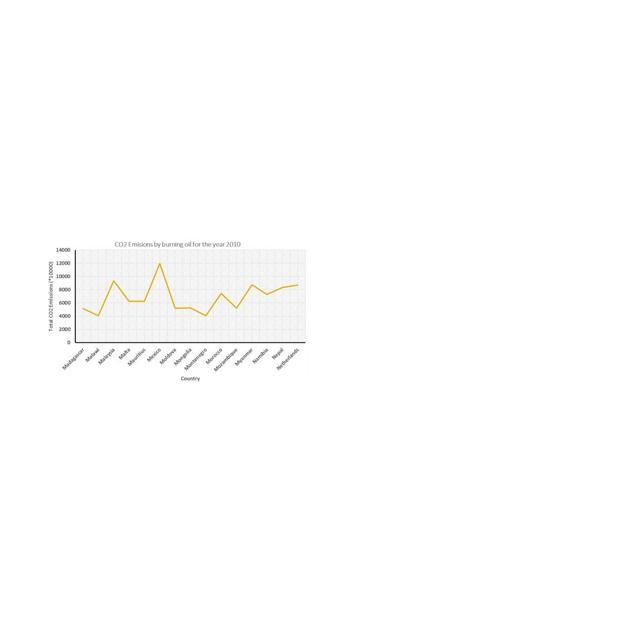Graph: (47, 238, 308, 383)
